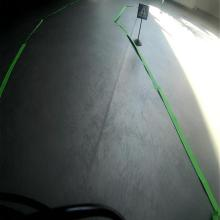crosswalk: (137, 3, 149, 20)
